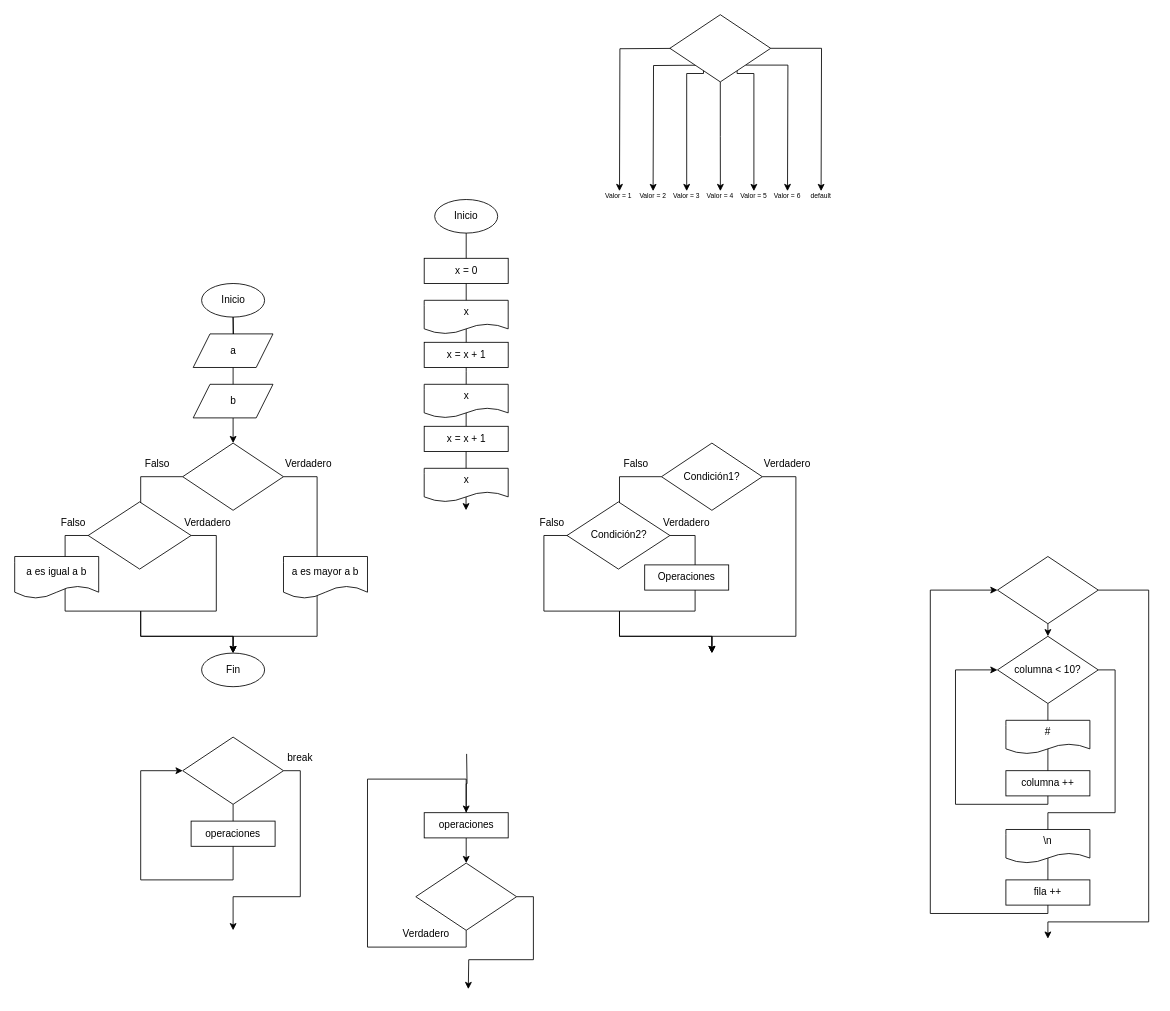
The diagram is 1170 pixels wide and 1011 high, and some of its shapes have lost their labels. The shapes that lost their labels are listed below. From the top down, each one's box as (x1, y1, x2, y2) in pixels, then its label:
(669, 14, 771, 82): Switch (valor)
(182, 442, 284, 510): a > b?
(87, 501, 191, 569): a < b?
(997, 556, 1098, 624): fila < 5?
(182, 736, 284, 804): true
(415, 862, 517, 930): Condición?
